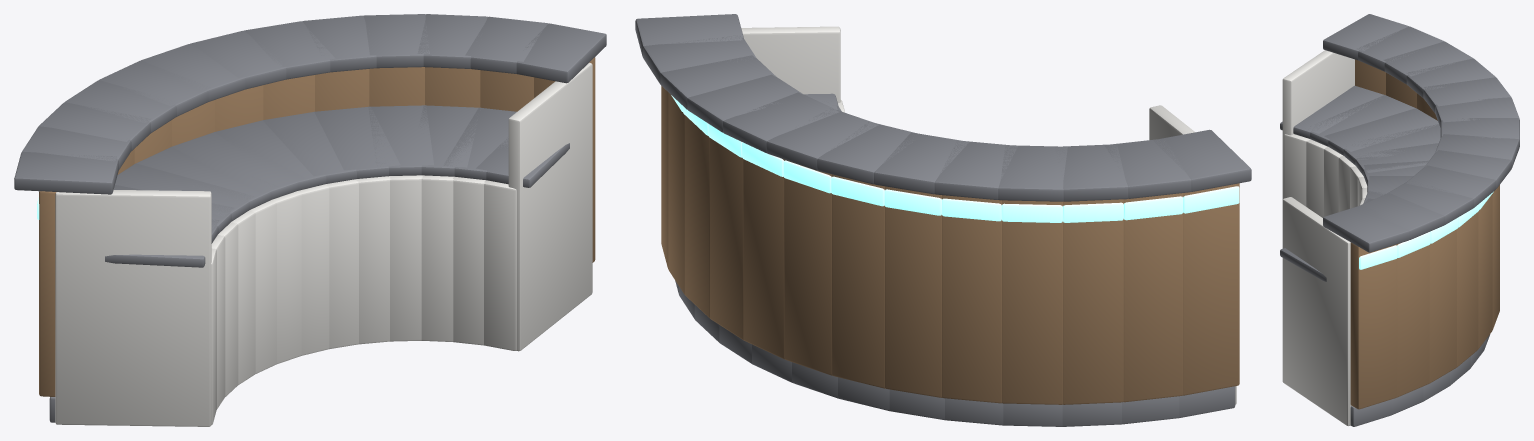
File: th11_empfangstheke.glb
3 views of the same model, side by side, from view 1: azimuth 30°, elevation 25°; view 2: azimuth 150°, elevation 25°; view 3: azimuth 270°, elevation 25° (orthographic). The views are drawn at different scales.
Visible parts, largest first — view 1: Cube.079, Cube.078, Cube.016, Cube.004, Cube.022, Cube.028, Cube.010, Cube.034, Cube.040, Cube.046, Cube.029, Cube.075 (+38 smaller); view 2: Cube.055, Cube.061, Cube.049, Cube.067, Cube.073, Cube.043, Cube.037, Cube.031, Cube.025, Cube.019, Cube.078, Cube.013 (+35 smaller); view 3: Cube.078, Cube.001, Cube.007, Cube.013, Cube.079, Cube.019, Cube.003, Cube.065, Cube.025, Cube.009, Cube.075, Cube.021 (+31 smaller).
Boxes of the visible parts, x1,y1,x2,y2 form: Cube.079: (55, 190, 211, 426); Cube.078: (508, 62, 592, 351); Cube.016: (421, 175, 453, 341); Cube.004: (484, 180, 516, 350); Cube.022: (388, 175, 422, 341); Cube.028: (356, 176, 390, 344); Cube.010: (453, 176, 485, 345); Cube.034: (326, 179, 358, 349); Cube.040: (298, 184, 329, 355); Cube.046: (272, 191, 301, 363); Cube.029: (314, 107, 400, 178); Cube.075: (14, 151, 118, 194); Cube.055: (1002, 200, 1062, 404); Cube.061: (1063, 199, 1123, 404); Cube.049: (942, 195, 1001, 403); Cube.067: (1123, 193, 1182, 402); Cube.073: (1183, 183, 1239, 395); Cube.043: (885, 186, 941, 397); Cube.037: (832, 174, 884, 388); Cube.031: (784, 159, 832, 375); Cube.025: (743, 159, 784, 359); Cube.019: (710, 138, 743, 339); Cube.078: (741, 26, 840, 103); Cube.013: (684, 115, 709, 318); Cube.078: (1282, 197, 1351, 426); Cube.001: (1350, 242, 1396, 409); Cube.007: (1396, 243, 1429, 397); Cube.013: (1429, 229, 1456, 383); Cube.079: (1282, 50, 1354, 198); Cube.019: (1457, 212, 1478, 367); Cube.003: (1323, 205, 1409, 252); Cube.065: (1324, 108, 1438, 155); Cube.025: (1478, 194, 1492, 349); Cube.009: (1356, 193, 1444, 239); Cube.075: (1323, 14, 1409, 60); Cube.021: (1406, 165, 1496, 207).
Bounding box in the file's own units: 2.89 × 1.14 × 1.27.
